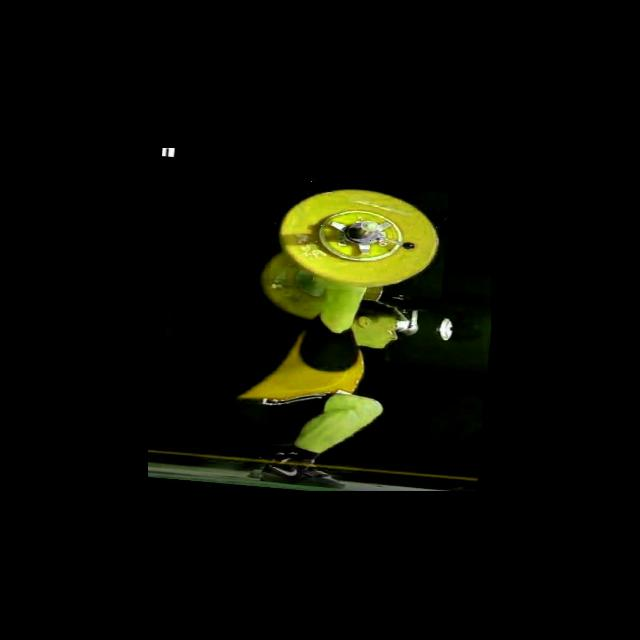barbell: (269, 179, 450, 299)
